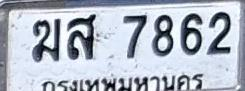2: (207, 11, 231, 54)
6: (180, 13, 202, 55)
7: (123, 13, 147, 58)
8: (152, 14, 174, 56)
A06: (32, 18, 61, 61)
A40: (67, 14, 96, 60)
BKK: (40, 73, 203, 91)
